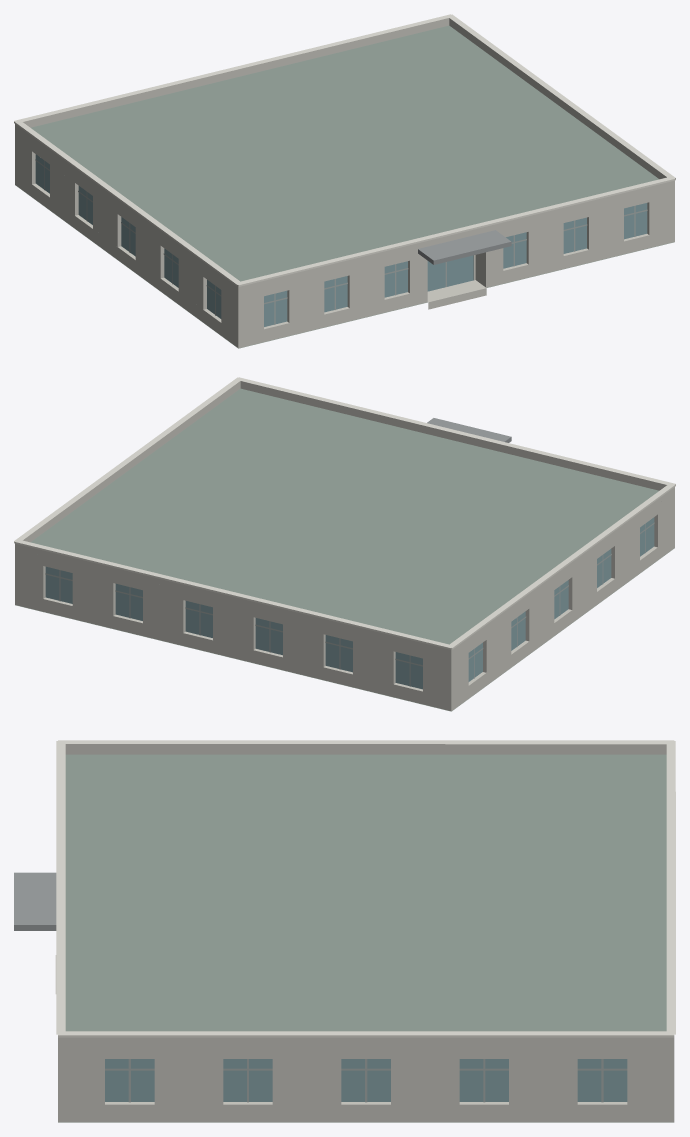
3 renders of one model, top to bottom at view 1: azimuth 30°, elevation 25°; view 2: azimuth 150°, elevation 25°; view 3: azimuth 270°, elevation 25°, orthographic. The views are drawn at different scales.
Visible parts, largest first — view 1: aux-1168524947__roof, aux-1168524947__wall, aux-1168524947__parapet, aux-1168524947__glass, aux-1168524947__trim, aux-1168524947__canopy, aux-1168524947__entranceThreshold_0, aux-1168524947__frame; view 2: aux-1168524947__roof, aux-1168524947__wall, aux-1168524947__parapet, aux-1168524947__glass, aux-1168524947__trim, aux-1168524947__frame, aux-1168524947__canopy; view 3: aux-1168524947__roof, aux-1168524947__wall, aux-1168524947__trim, aux-1168524947__parapet, aux-1168524947__glass, aux-1168524947__canopy, aux-1168524947__frame.
Boxes of the visible parts, x1=… form: aux-1168524947__roof: x1=15, y1=25, x2=674, y2=348; aux-1168524947__wall: x1=15, y1=129, x2=674, y2=348; aux-1168524947__parapet: x1=15, y1=18, x2=674, y2=292; aux-1168524947__glass: x1=35, y1=154, x2=647, y2=326; aux-1168524947__trim: x1=14, y1=14, x2=675, y2=286; aux-1168524947__canopy: x1=418, y1=230, x2=511, y2=264; aux-1168524947__entranceThreshold_0: x1=427, y1=280, x2=486, y2=309; aux-1168524947__frame: x1=35, y1=159, x2=647, y2=324; aux-1168524947__roof: x1=15, y1=388, x2=674, y2=711; aux-1168524947__wall: x1=15, y1=492, x2=674, y2=711; aux-1168524947__parapet: x1=15, y1=381, x2=674, y2=655; aux-1168524947__glass: x1=45, y1=517, x2=654, y2=689; aux-1168524947__trim: x1=14, y1=377, x2=675, y2=649; aux-1168524947__frame: x1=45, y1=522, x2=654, y2=686; aux-1168524947__canopy: x1=427, y1=418, x2=511, y2=442; aux-1168524947__roof: x1=58, y1=754, x2=673, y2=1122; aux-1168524947__wall: x1=58, y1=1045, x2=674, y2=1122; aux-1168524947__trim: x1=56, y1=740, x2=675, y2=1037; aux-1168524947__parapet: x1=58, y1=744, x2=674, y2=1044; aux-1168524947__glass: x1=105, y1=1059, x2=627, y2=1101; aux-1168524947__canopy: x1=14, y1=872, x2=56, y2=930; aux-1168524947__frame: x1=105, y1=1059, x2=627, y2=1102.
Bounding box in the file's own units: 27.06 × 4.15 × 25.66.
